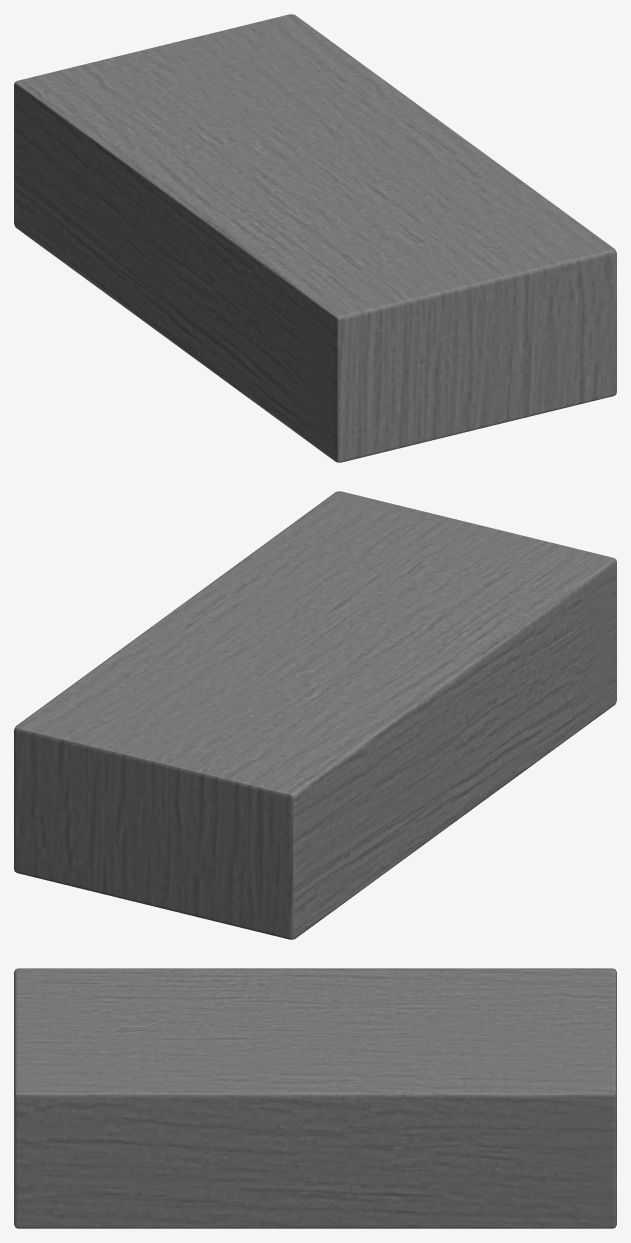
The model's file is ABlock001.obj.
3 renders of one model, top to bottom at view 1: azimuth 30°, elevation 25°; view 2: azimuth 150°, elevation 25°; view 3: azimuth 270°, elevation 25°, orthographic. The views are drawn at different scales.
Visible parts, largest first — view 1: pCube1; view 2: pCube1; view 3: pCube1.
Part boxes in pixels (x1,y1,x2,y2): pCube1: [14, 14, 616, 462]; pCube1: [14, 491, 616, 939]; pCube1: [14, 968, 616, 1228].
Bounding box in the file's own units: 200 × 100 × 400.
1 material, 1 textured.
